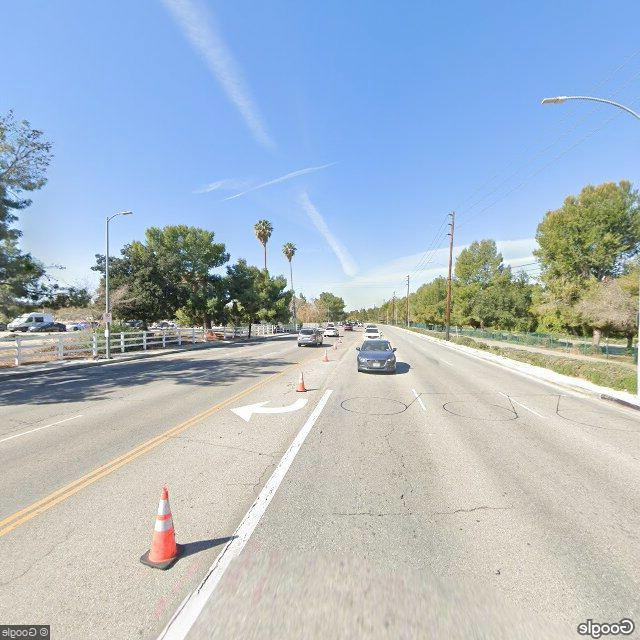crack: (2, 527, 80, 607), (168, 432, 286, 457), (386, 426, 417, 512), (332, 497, 407, 524), (433, 499, 515, 518), (248, 457, 279, 493)
